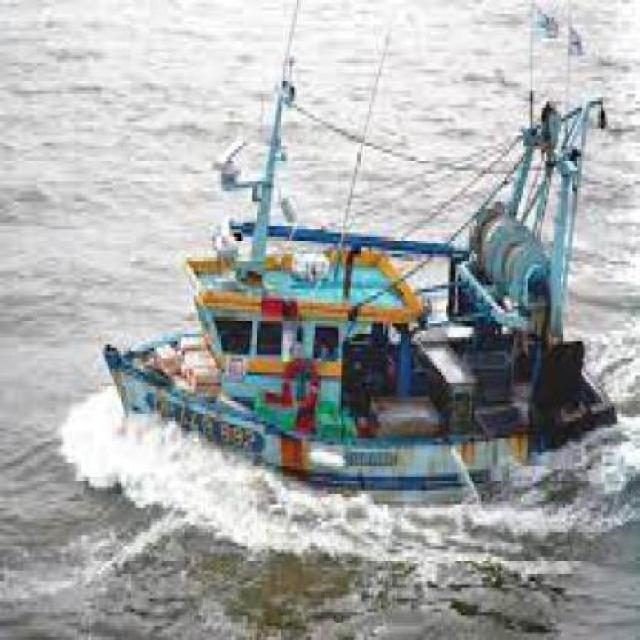fish-b: (100, 22, 627, 509)
